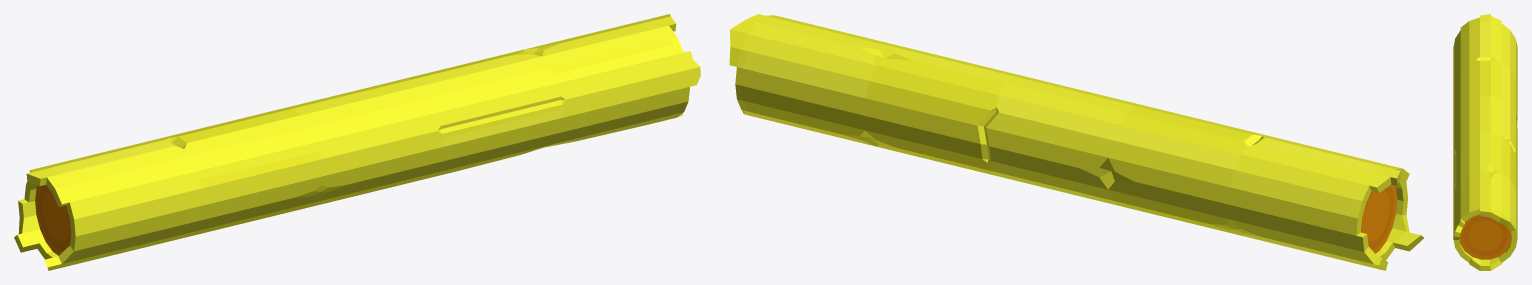
The model's file is Log_11.fbx.
3 views of the same model, side by side, from view 1: azimuth 30°, elevation 25°; view 2: azimuth 150°, elevation 25°; view 3: azimuth 270°, elevation 25° (orthographic). The views are drawn at different scales.
Parts seen in each view (by area): view 1: Circle.295; view 2: Circle.295; view 3: Circle.295.
Boxes of the visible parts, x1,y1,x2,y2 form: Circle.295: (14,14,700,270); Circle.295: (729,14,1423,270); Circle.295: (1453,14,1517,270).
Size of the model in its own units: 174 by 23.2 by 23.56.
